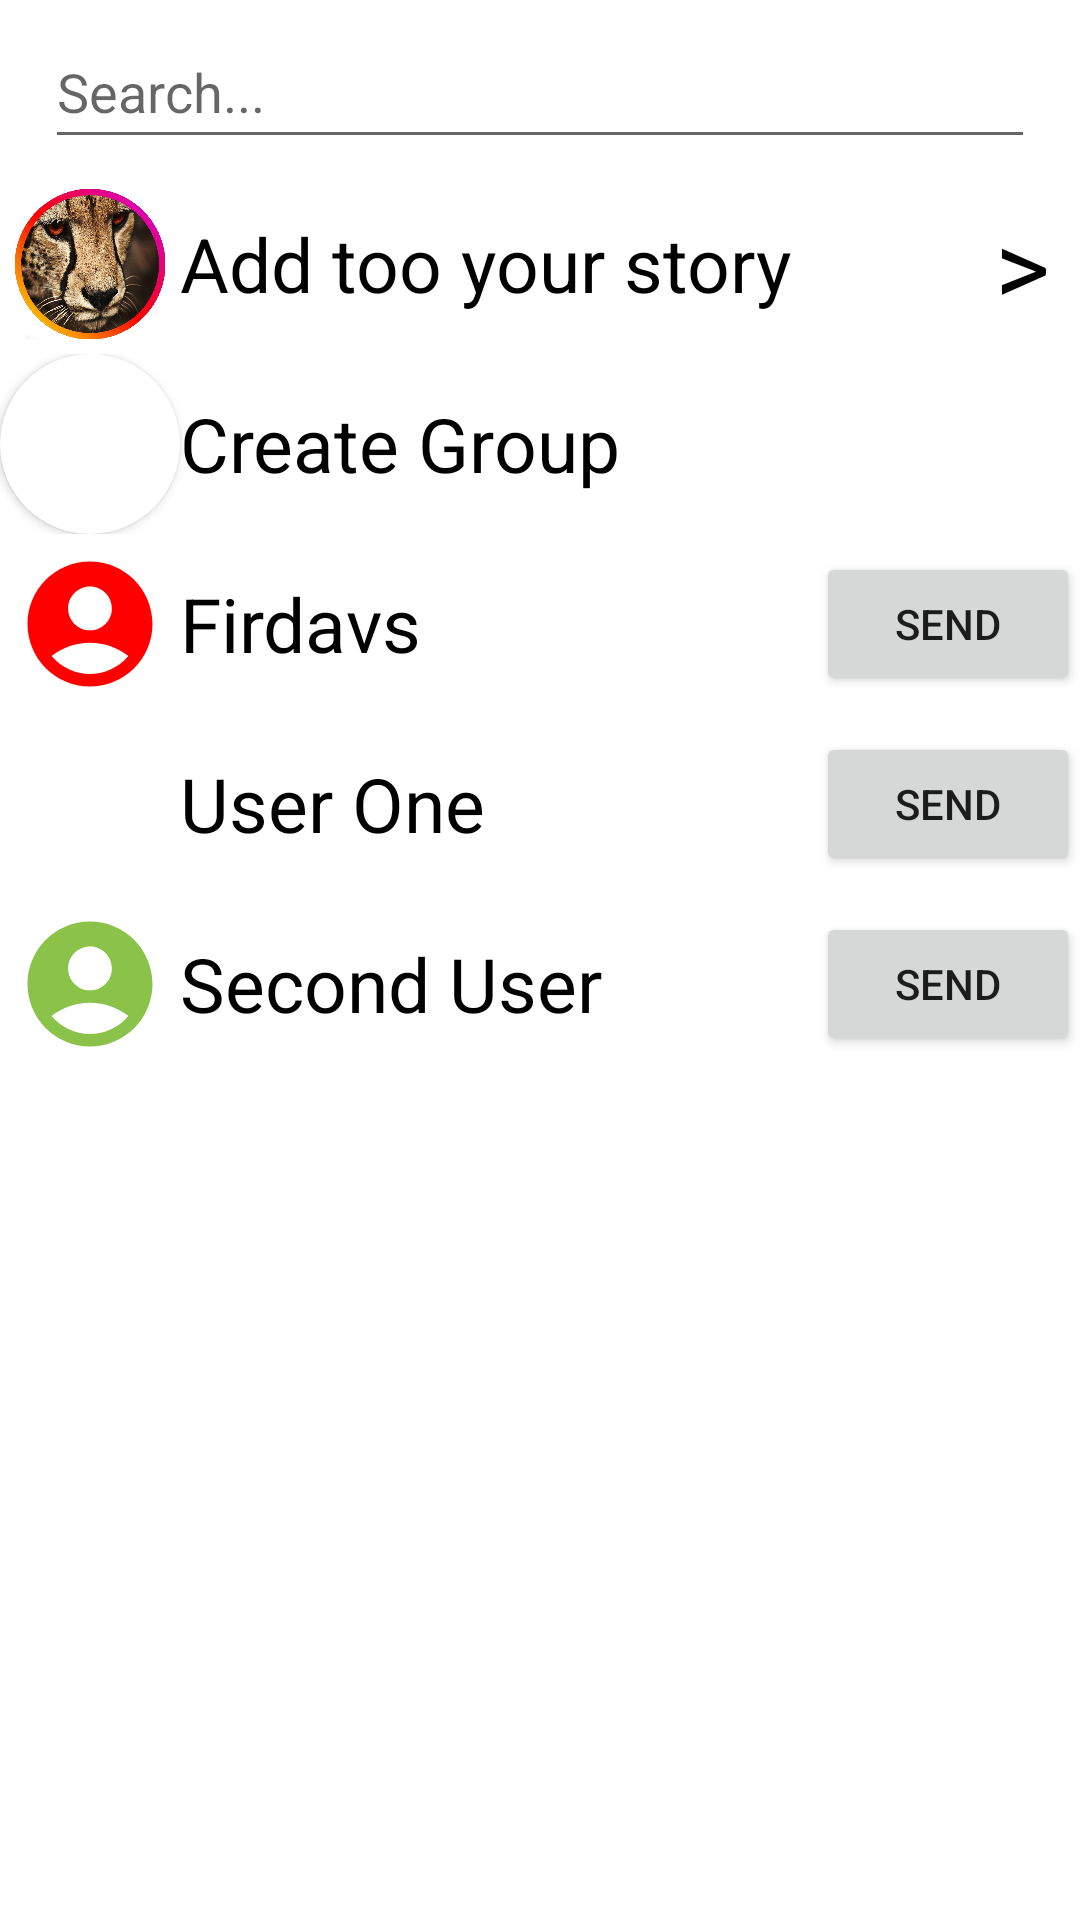

Point at icon controls on the screen. Image size 1080x1920, points as [x,y].
account circle: [90,624], [90,984]
